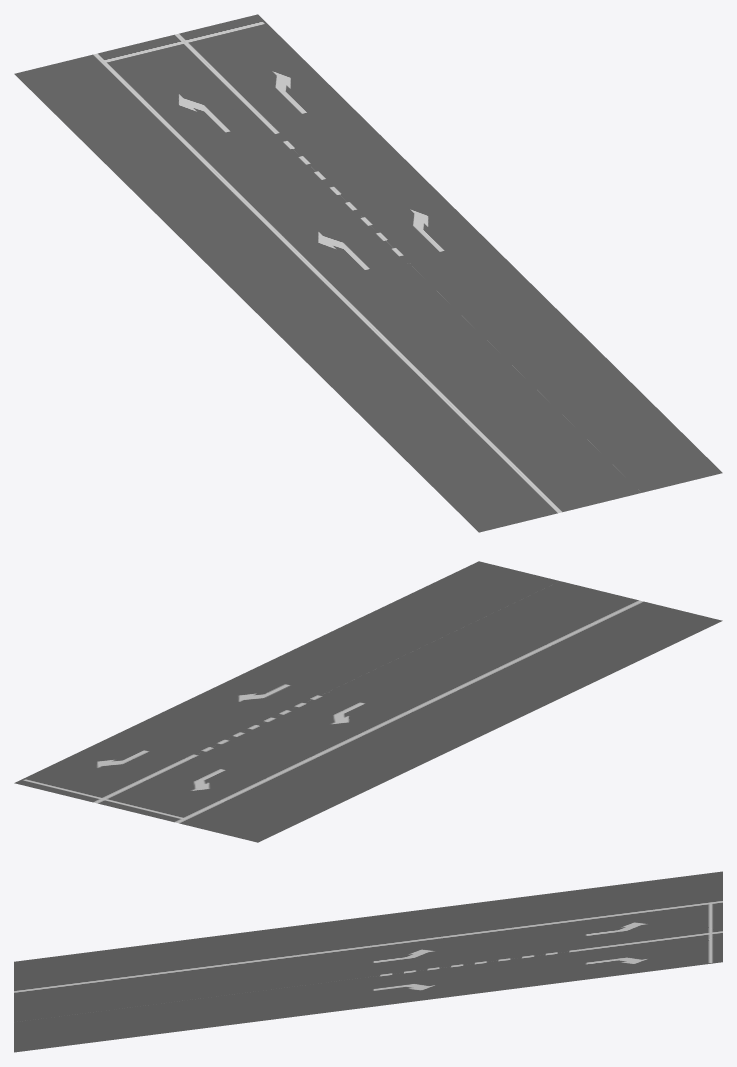
The model's file is Sign.fbx.
3 views of the same model, one above another, from view 1: azimuth 30°, elevation 25°; view 2: azimuth 150°, elevation 25°; view 3: azimuth 270°, elevation 25° (orthographic). The views are drawn at different scales.
Parts seen in each view (by area): view 1: RoadModul1.001; view 2: RoadModul1.001; view 3: RoadModul1.001.
Boxes of the visible parts, <box> form: RoadModul1.001: <box>14,14,722,532</box>; RoadModul1.001: <box>14,561,722,842</box>; RoadModul1.001: <box>14,871,722,1052</box>.
Bounding box in the file's own units: 13.5 × 6.26 × 44.56.
